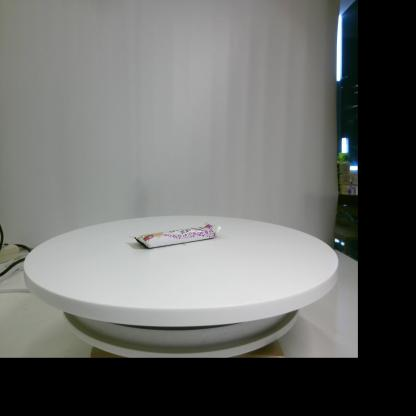Chocolate: (129, 222, 222, 249)
